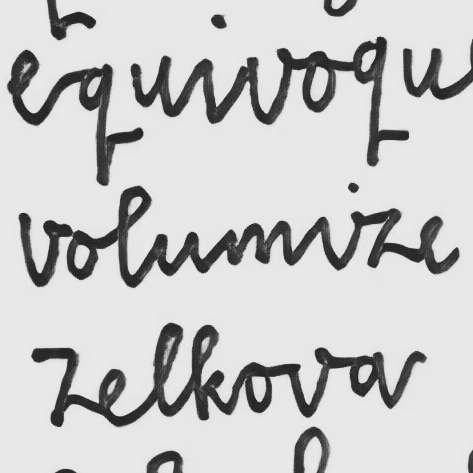e: (415, 214, 464, 276)
i: (309, 213, 344, 270)
l: (114, 182, 153, 289)
m: (223, 219, 294, 269)
o: (63, 228, 102, 283)
u: (153, 230, 204, 278)
v: (16, 210, 63, 289)
z: (346, 205, 410, 270)
